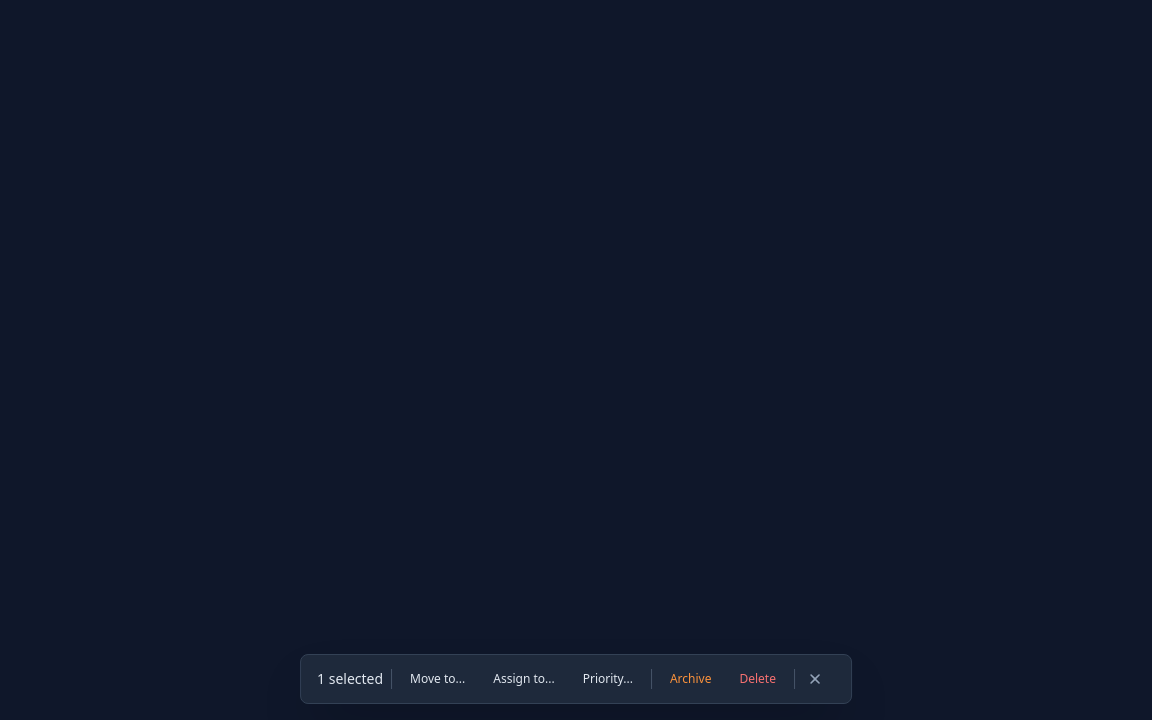
BulkActionToolbar › shows singular "card" in delete confirmation for single selection
Click the button "Delete" at (758, 679), box [729,665,786,693]
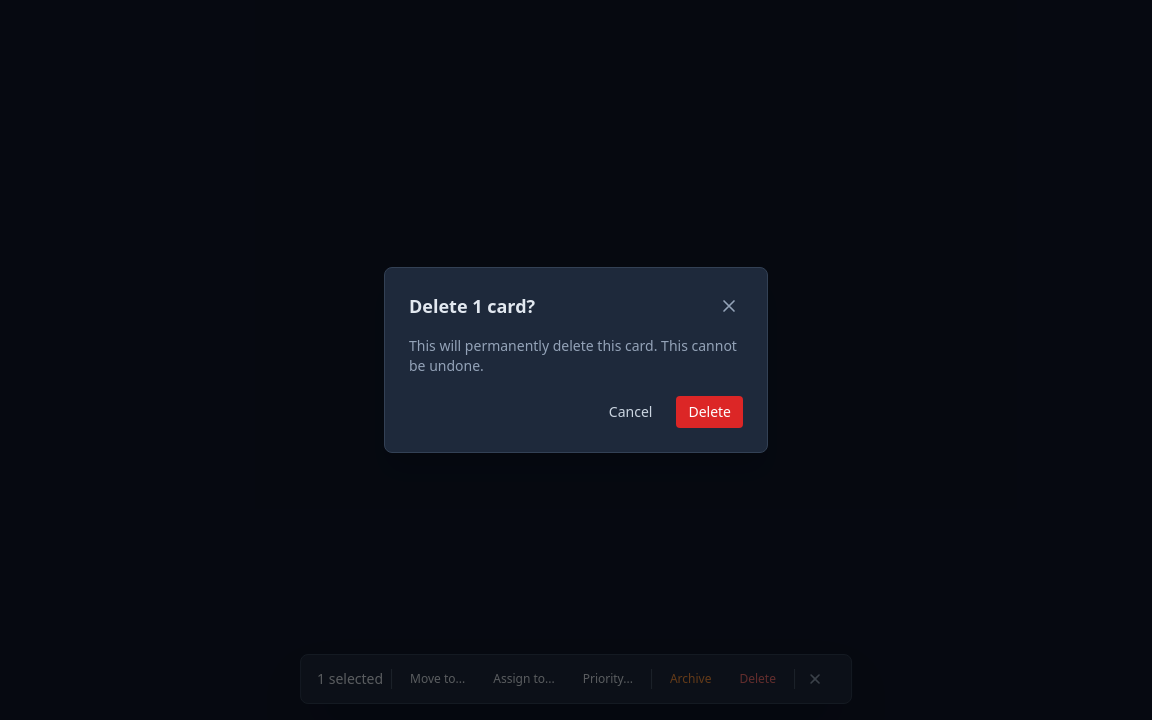
Now the heading "Delete 1 card?" is shown, box [409,292,535,320]
Now the text "This will permanently delete this card" is shown, box [409,336,743,376]
